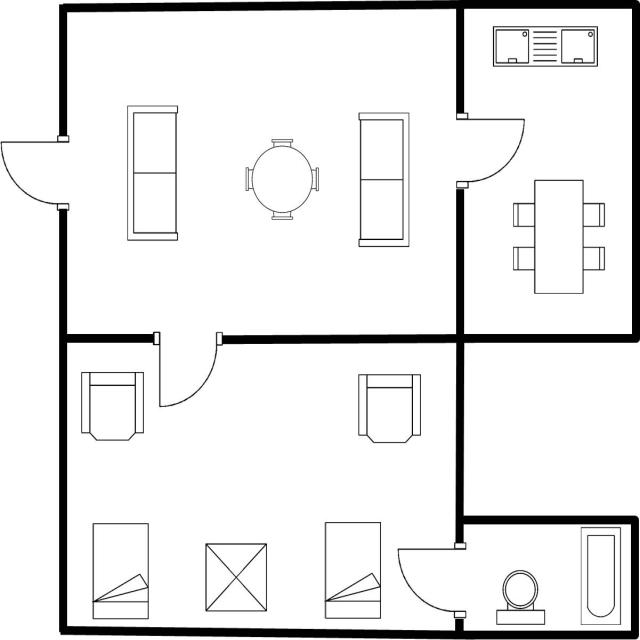armchair: (78, 368, 147, 446), (355, 370, 424, 446)
bed: (320, 517, 384, 622), (88, 518, 152, 622)
coffee_table: (199, 538, 271, 614)
dining_table: (508, 175, 607, 298)
large_sink: (491, 565, 550, 628)
large_sofa: (354, 106, 414, 252), (122, 100, 181, 245)
round_table: (241, 134, 321, 224)
tub: (578, 524, 624, 630)
twin_sink: (488, 22, 602, 71)
